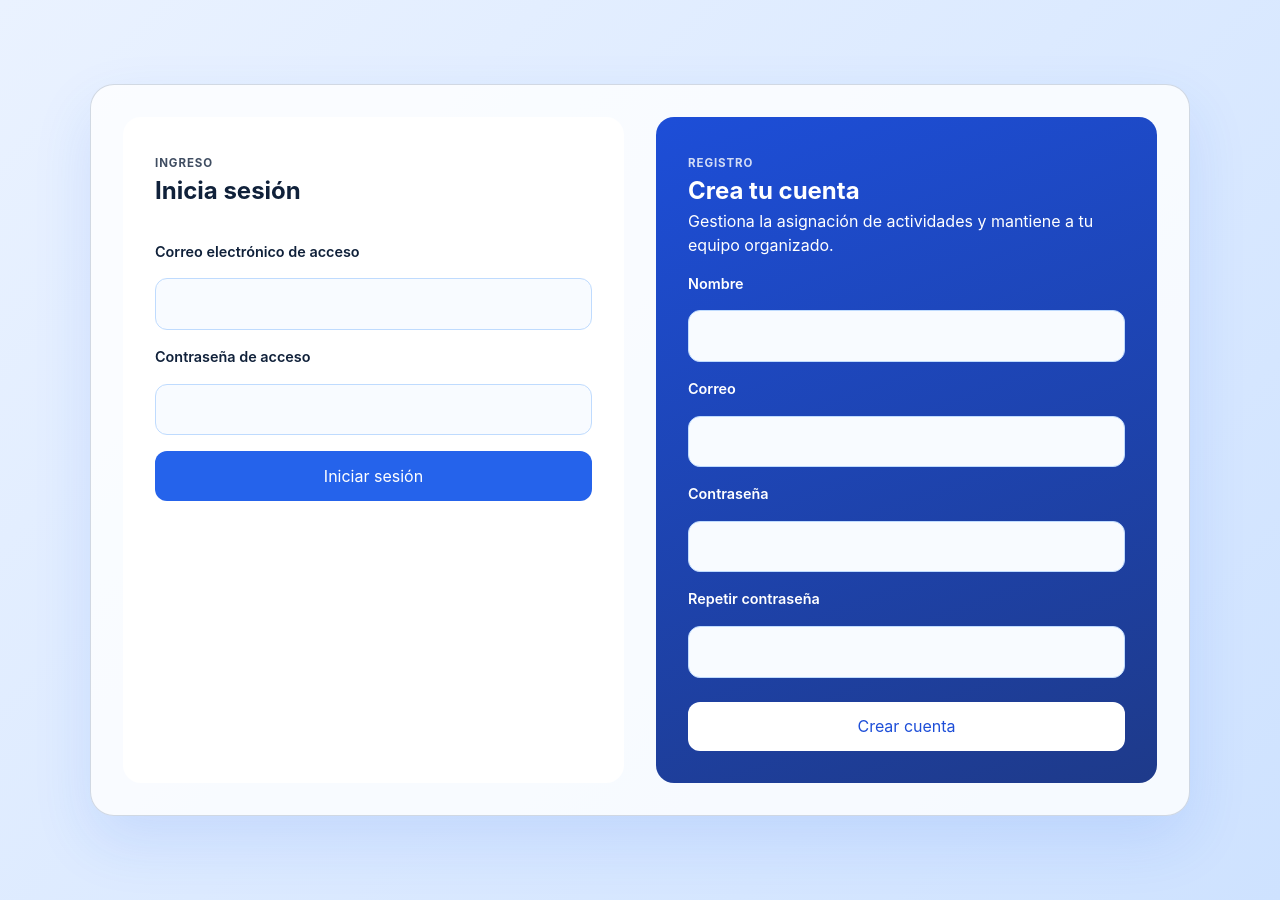
Test: App › shows an error when the API rejects the login
Step 1. Type "bad@example.com" into the field labelled "Correo electrónico de acceso" → (374, 304), box [155, 278, 592, 330]
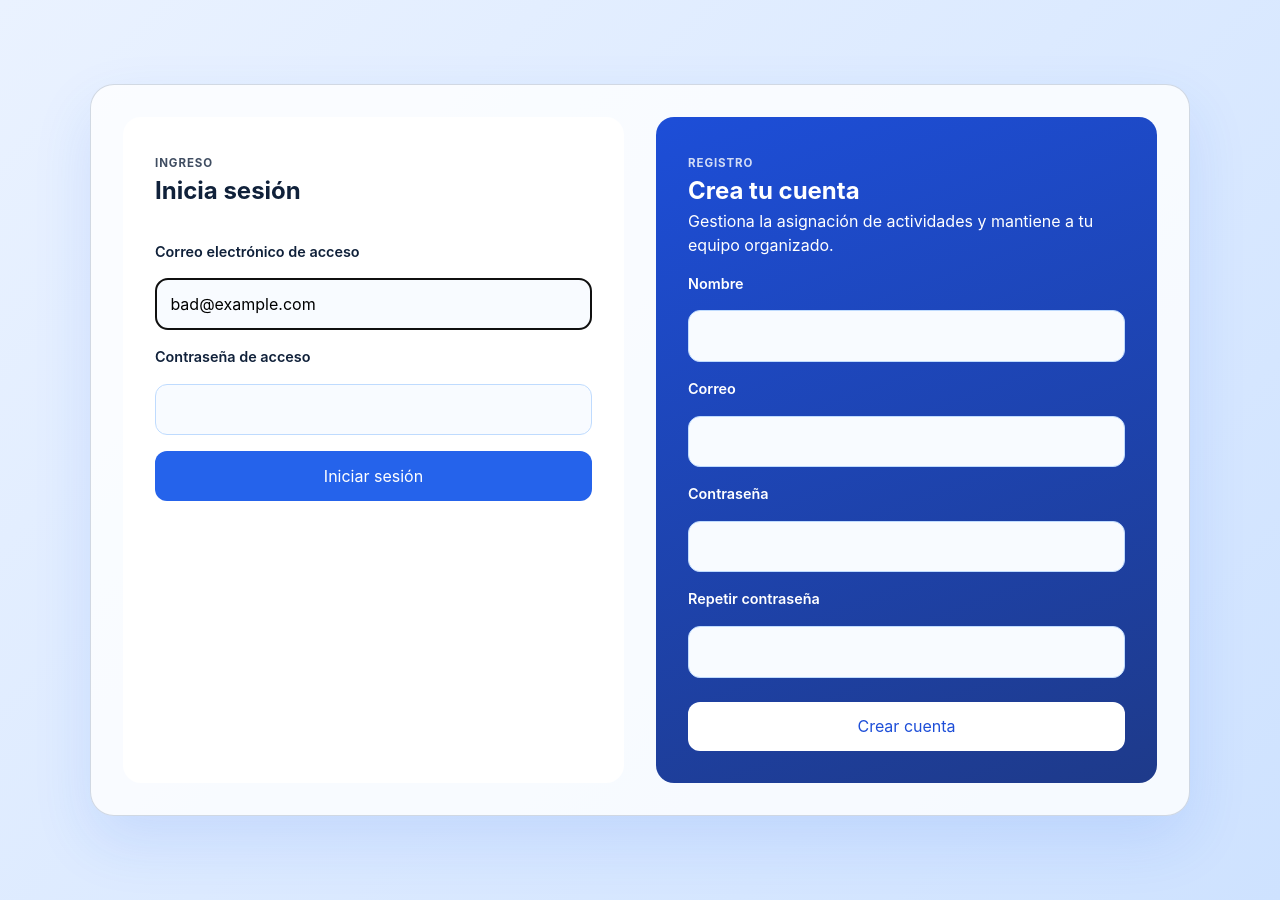
Step 2. Type "wrong-password" into the password field labelled "Contraseña de acceso" → (374, 409), box [155, 384, 592, 435]
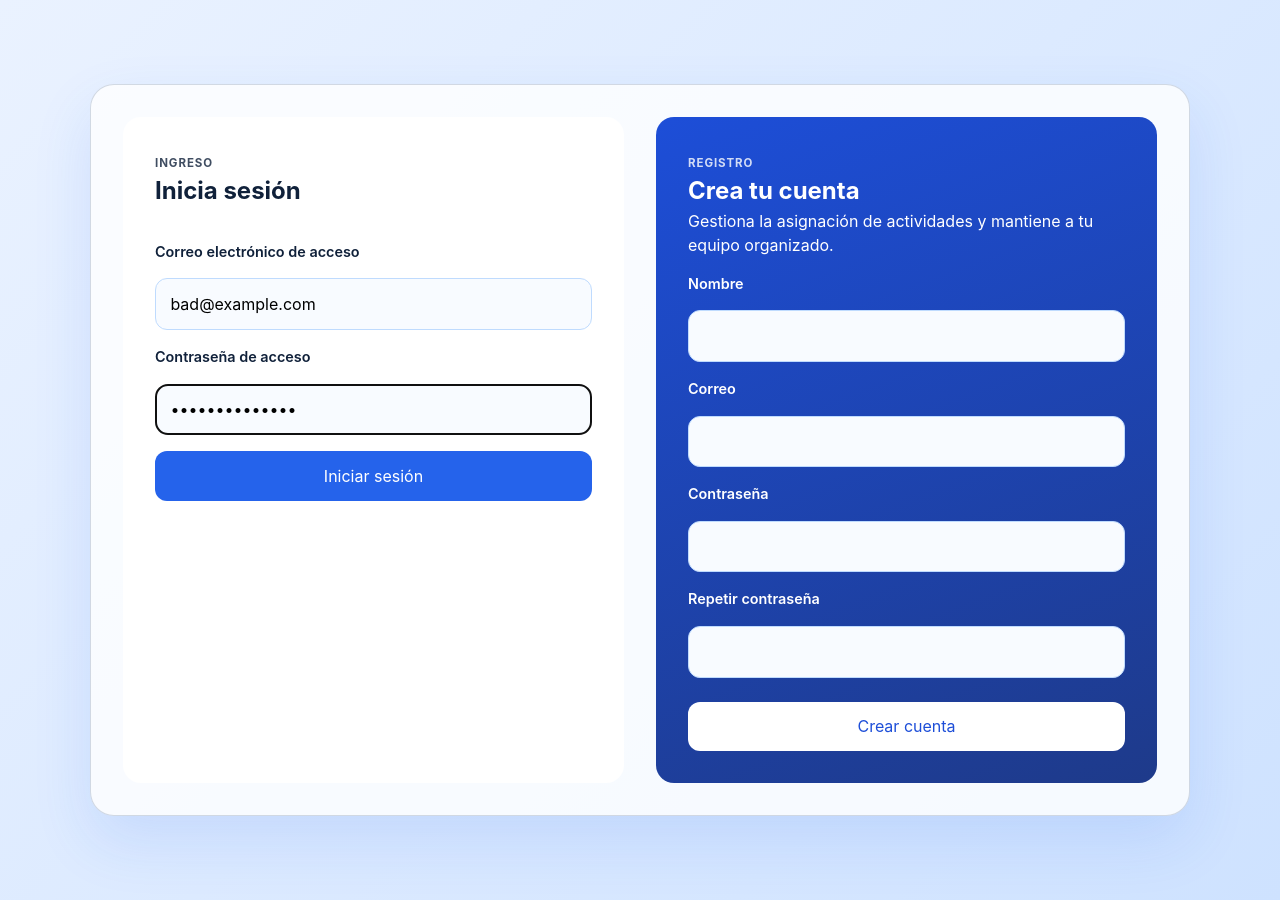
Step 3. Click the button "Iniciar sesión" → (374, 476), box [155, 451, 592, 501]
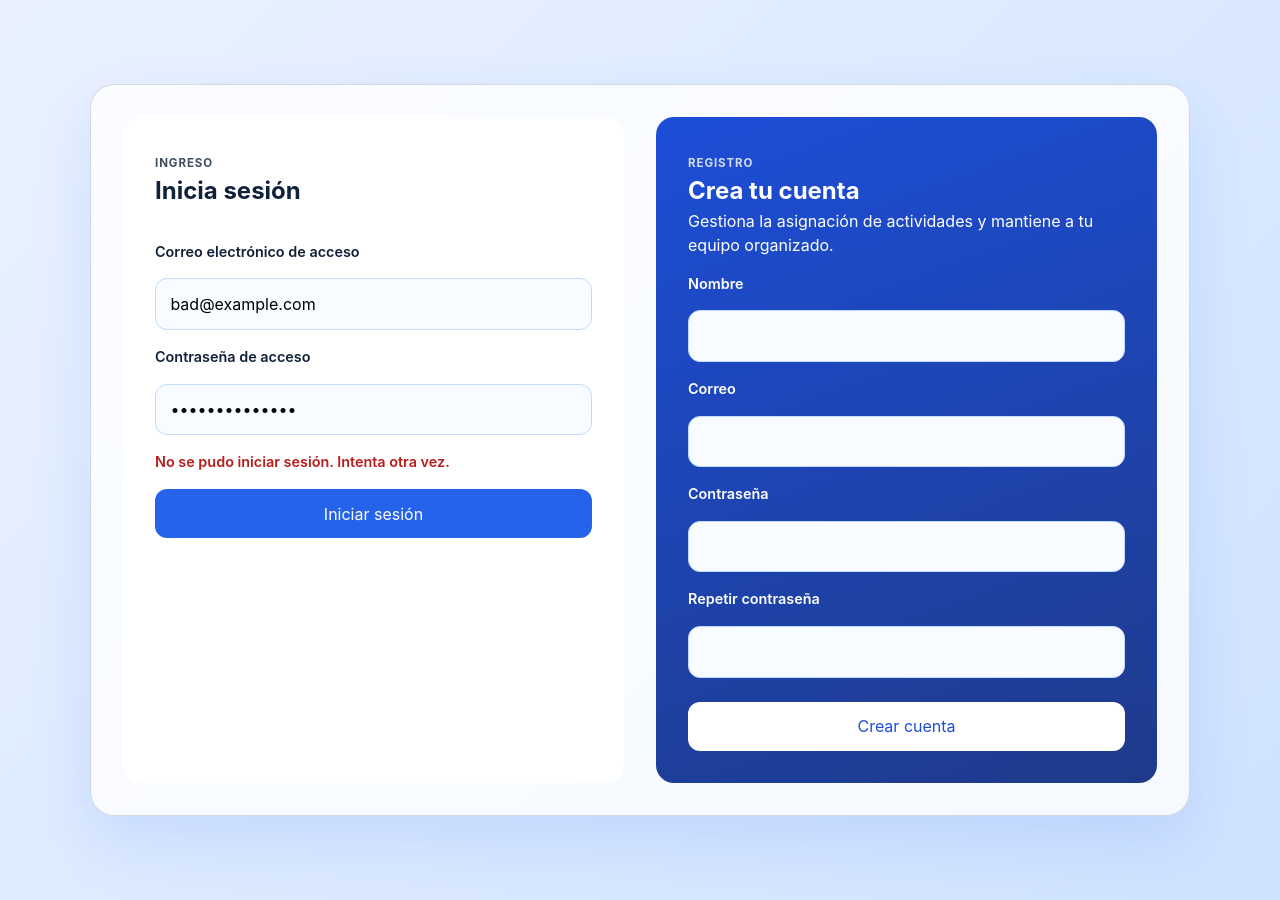
Expected: the text "No se pudo iniciar sesión. Intenta otra vez." is shown, [155, 453, 450, 470]
